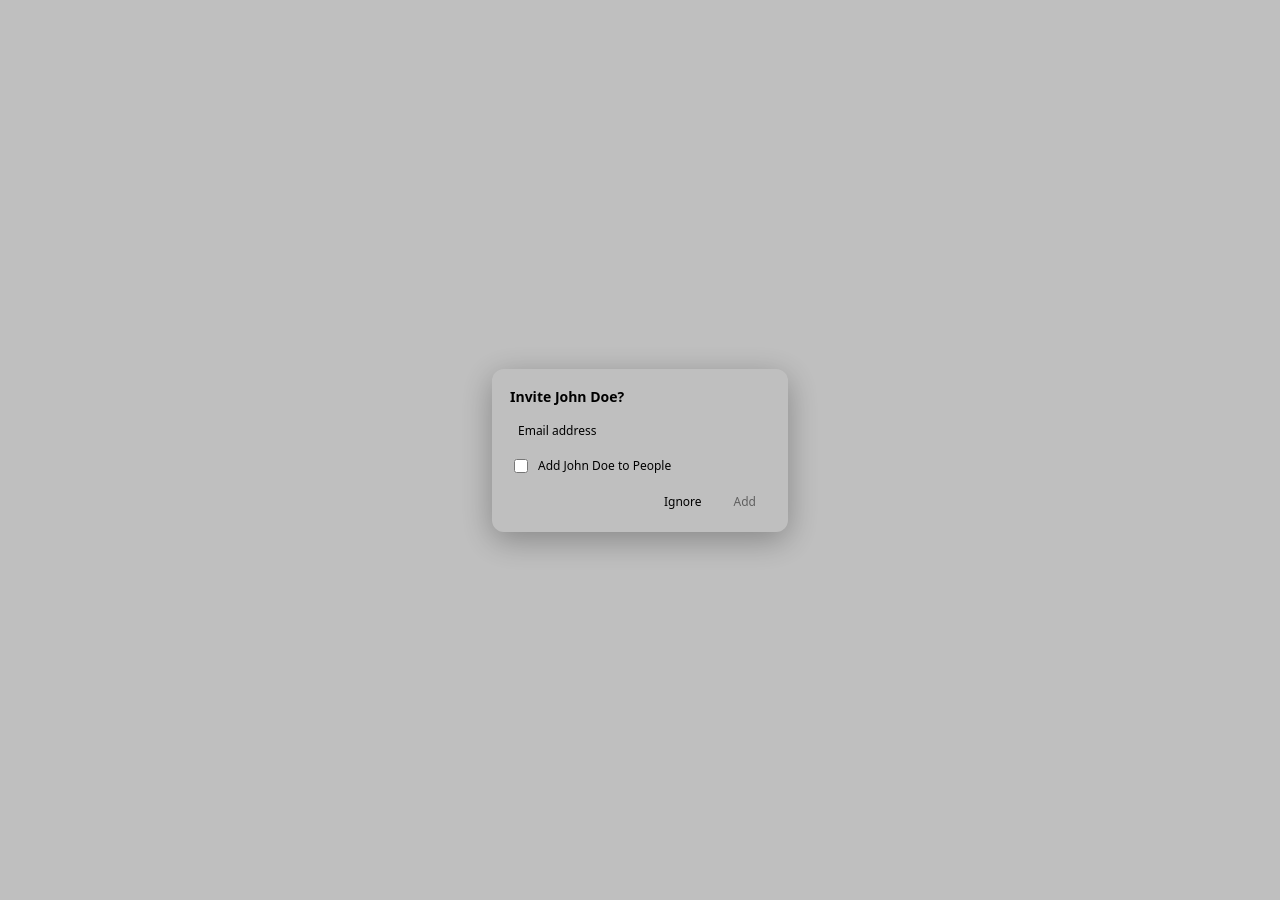
UnknownPersonModal › shows eviction note when people list is full and saveToDefaults is checked
The width and height of the screenshot is (1280, 900).
Click the checkbox.
click(521, 466)  # box left=514, top=458, right=528, bottom=472
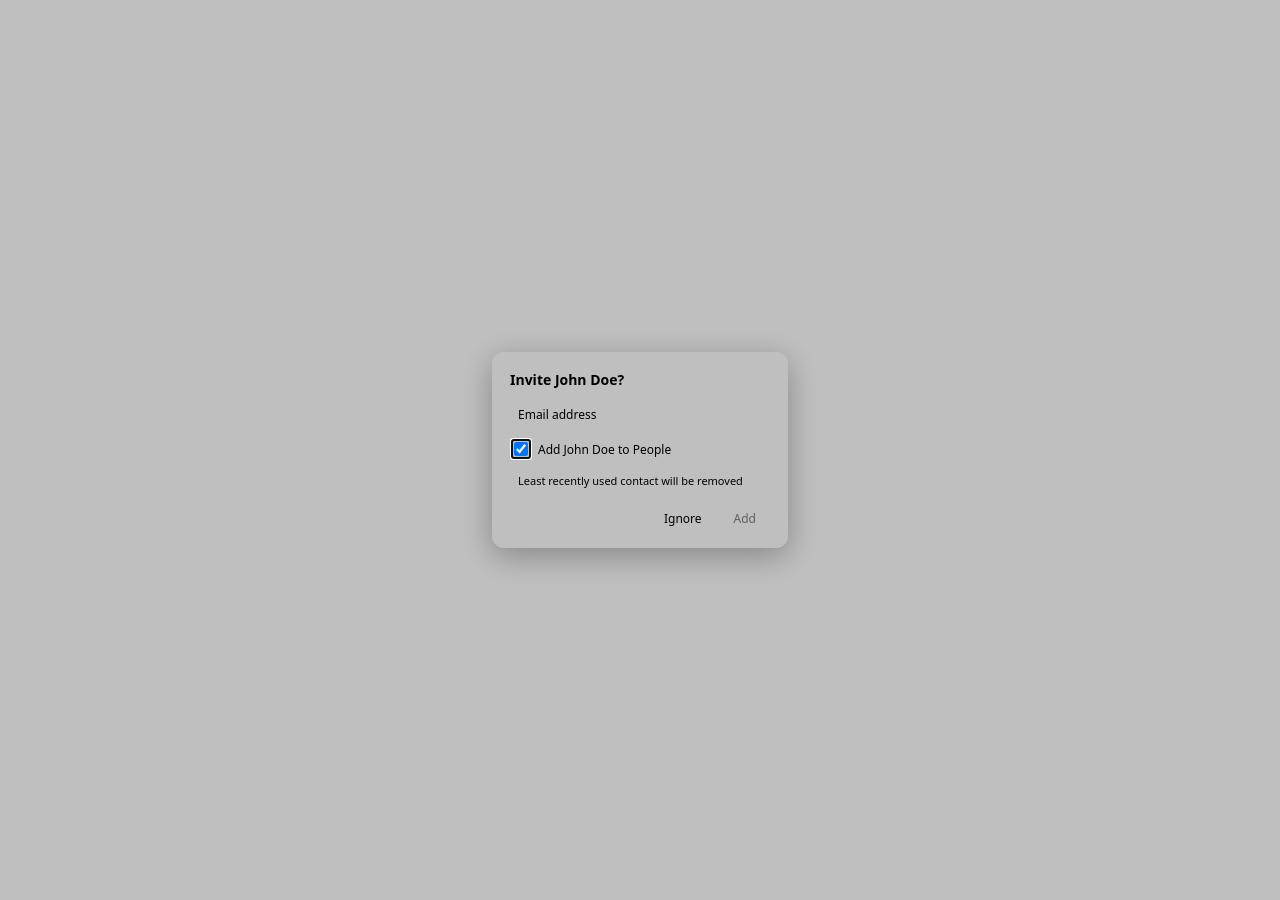
Expected: the text "Least recently used contact will be removed" is shown, left=510, top=469, right=770, bottom=492
